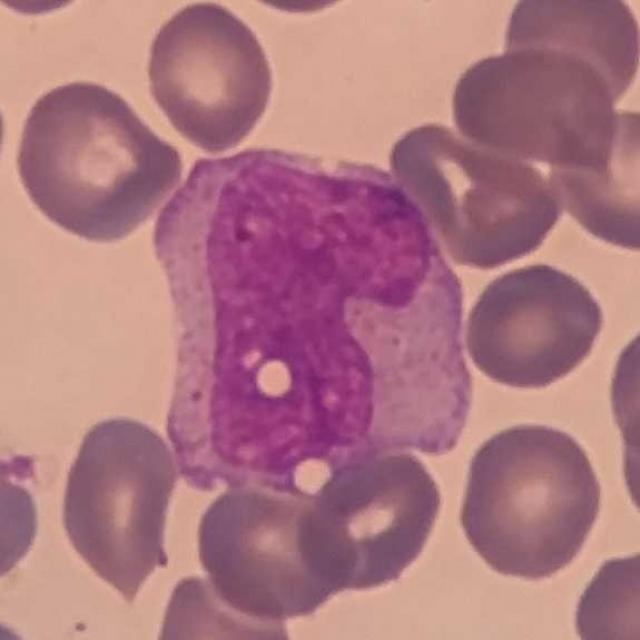Monocyte: (134, 124, 496, 503)
RBC: (9, 73, 186, 245), (383, 117, 568, 273), (452, 416, 610, 584), (190, 476, 358, 624), (54, 408, 182, 594), (292, 444, 448, 596), (445, 43, 626, 168), (140, 0, 278, 152), (460, 258, 609, 392), (496, 0, 640, 115), (548, 103, 640, 253), (149, 569, 302, 640), (0, 434, 48, 594), (565, 542, 640, 640), (602, 312, 640, 458), (613, 393, 640, 540), (217, 0, 378, 18), (1, 0, 107, 20)
